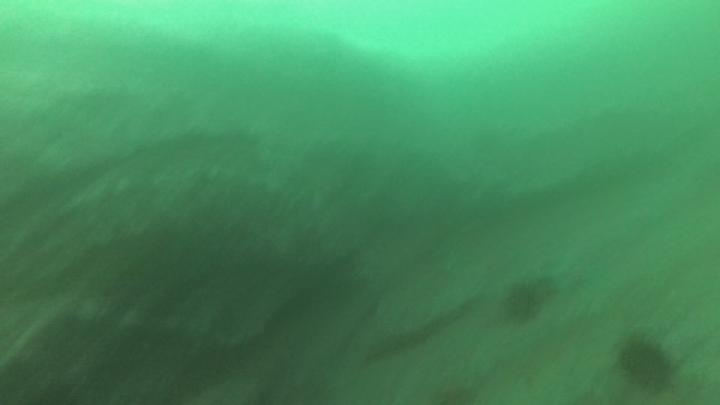echinus: (613, 331, 680, 396), (501, 278, 545, 325)
